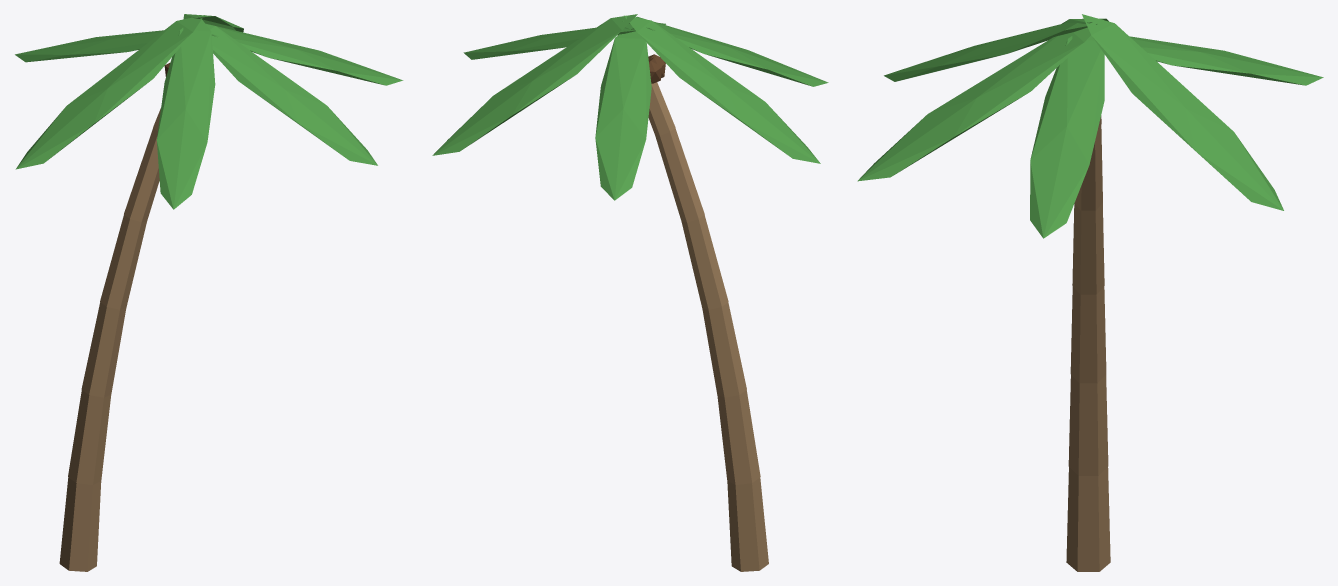
Rendered from Palm_A.glb.
The picture shows the model from 3 angles, left to right: view 1: azimuth 30°, elevation 25°; view 2: azimuth 150°, elevation 25°; view 3: azimuth 270°, elevation 25°; orthographic projection. The views are drawn at different scales.
Visible parts, largest first — view 1: Palm_A; view 2: Palm_A; view 3: Palm_A.
Part boxes in pixels (<box>): Palm_A: <box>15,14,403,571</box>; Palm_A: <box>432,14,828,571</box>; Palm_A: <box>857,14,1323,571</box>.
Size of the model in its own units: 4.6 by 6.15 by 4.23.
